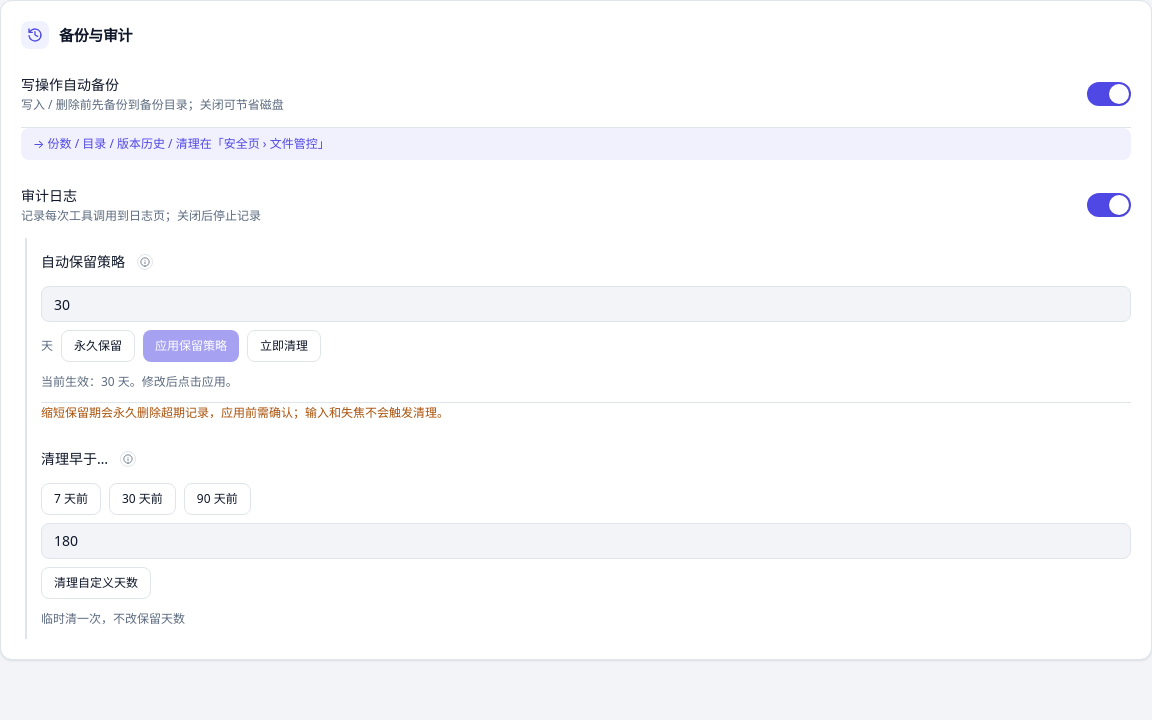
Test: 审计保留策略 › 永久保留显式选择后仍需应用，失败保留当前策略与草稿
The width and height of the screenshot is (1152, 720).
Click the button "永久保留".
click(98, 346)  # box [61, 330, 135, 362]
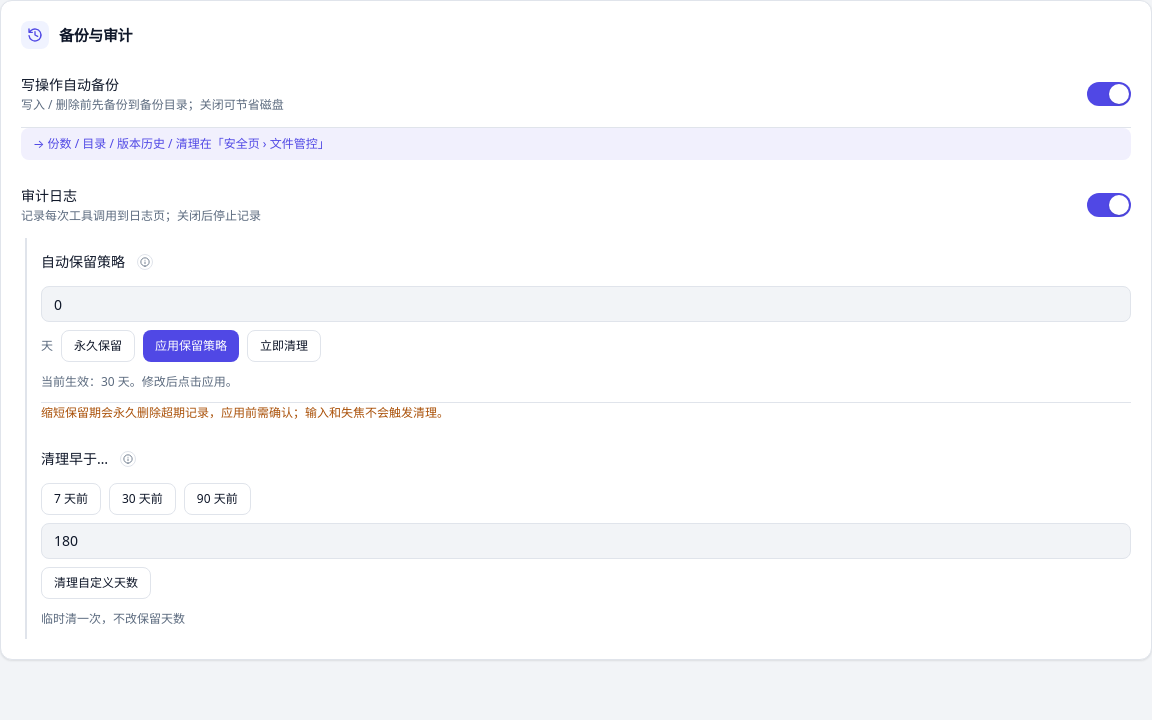
Click the button "应用保留策略".
click(191, 346)  # box [143, 330, 239, 362]
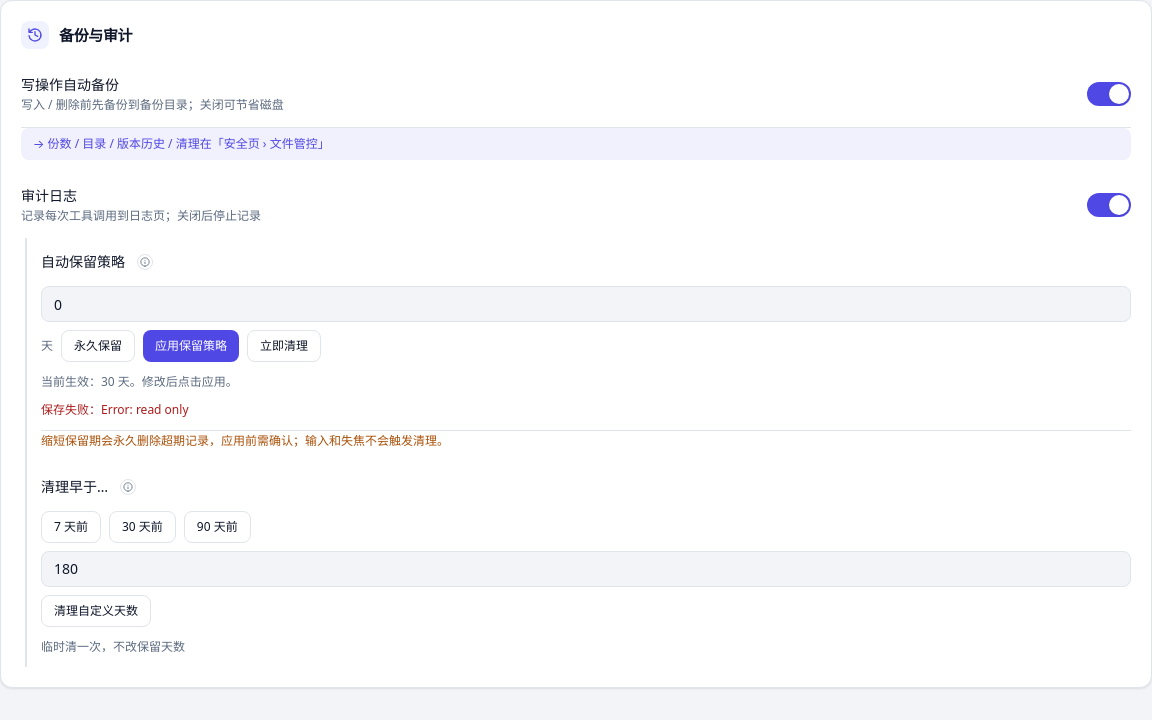
Expected: the text "当前生效：30 天" is shown, [41, 373, 238, 390]
Expected: the text "read only" is shown, [41, 401, 188, 418]
